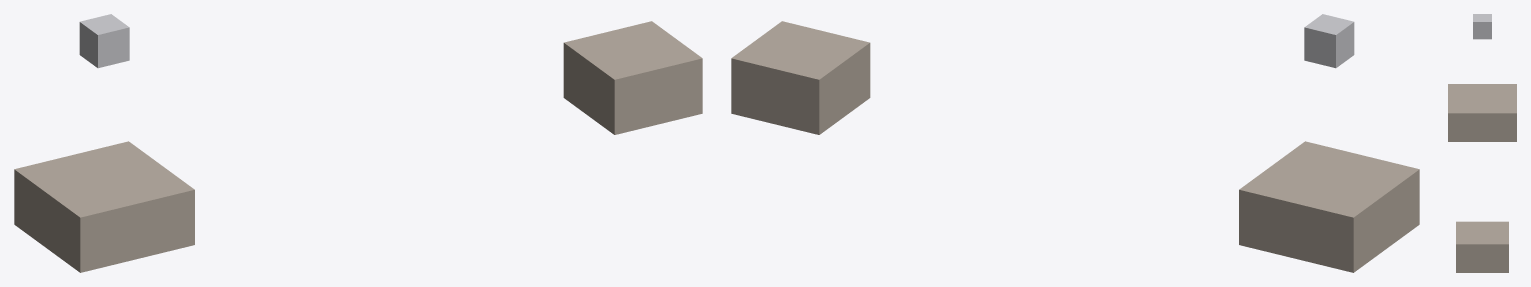
The picture shows the model from 3 angles, left to right: view 1: azimuth 30°, elevation 25°; view 2: azimuth 150°, elevation 25°; view 3: azimuth 270°, elevation 25°; orthographic projection. The views are drawn at different scales.
Visible parts, largest first — view 1: stone-anvil, distant-wall, impact-block; view 2: stone-anvil, distant-wall, impact-block; view 3: stone-anvil, distant-wall, impact-block.
Part boxes in pixels (left/top/right/bottom): stone-anvil: left=14, top=141, right=194, bottom=272; distant-wall: left=563, top=21, right=702, bottom=134; impact-block: left=79, top=14, right=129, bottom=68; stone-anvil: left=1239, top=141, right=1419, bottom=272; distant-wall: left=731, top=21, right=870, bottom=134; impact-block: left=1304, top=14, right=1354, bottom=68; stone-anvil: left=1448, top=84, right=1516, bottom=141; distant-wall: left=1456, top=221, right=1508, bottom=272; impact-block: left=1473, top=14, right=1491, bottom=39.
Bounding box in the file's own units: 3.57 × 1.14 × 0.65.
